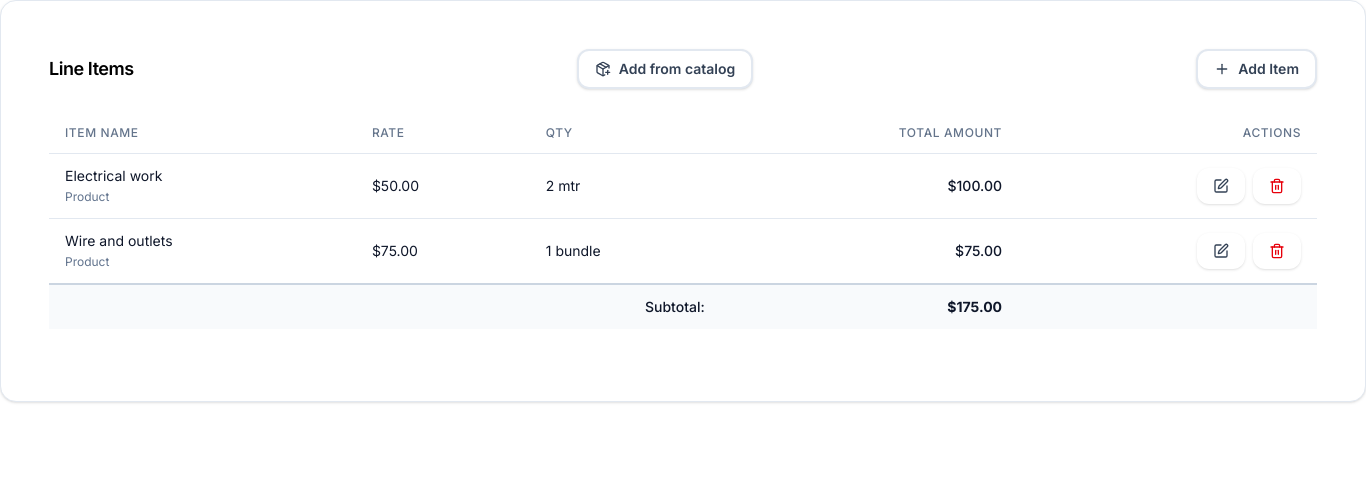
Scenario: LineItemsTable › should show edit form when edit button is clicked
This screenshot has width=1366, height=492.
Click the button titled "Edit Line Item" in the row of "Electrical work" at (1221, 186), box x1=1197 y1=168 x2=1245 y2=204
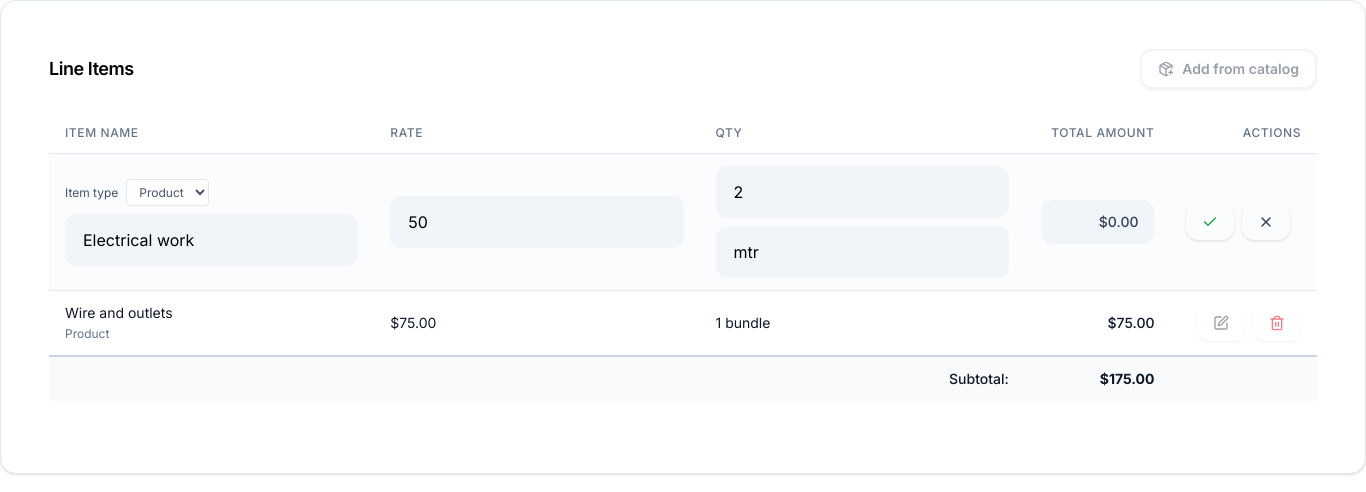
Expected: the field showing "Electrical work" is shown, x1=65 y1=214 x2=358 y2=266
Expected: the number field showing "2" is shown, x1=716 y1=166 x2=1009 y2=218
Expected: the number field showing "50" is shown, x1=390 y1=196 x2=684 y2=248
